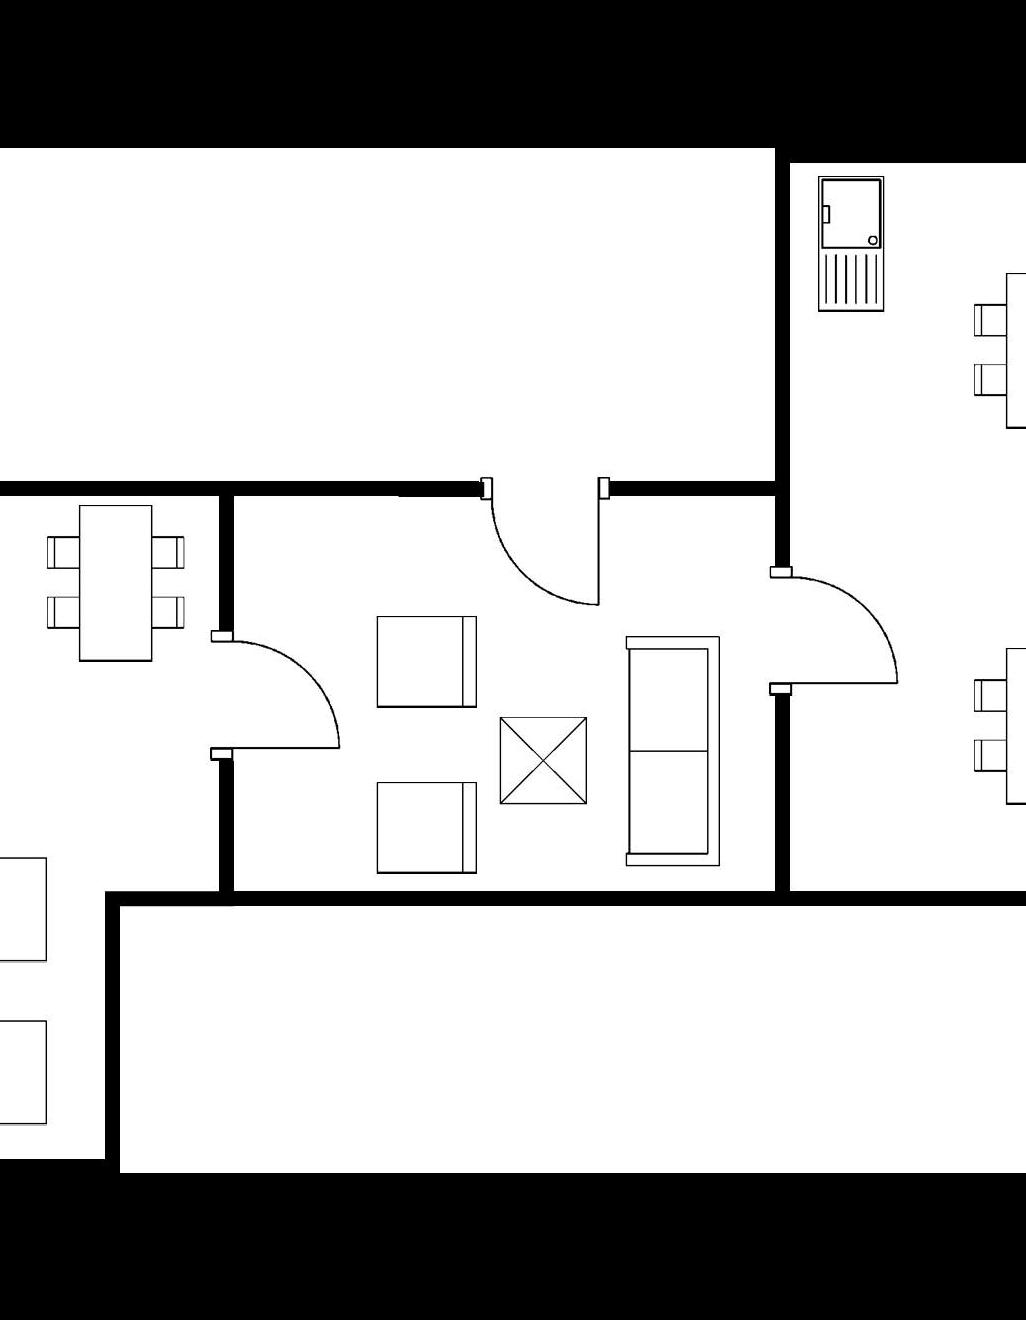bed: (0, 1009, 58, 1131), (0, 849, 54, 967)
dining_table: (37, 491, 192, 675), (963, 639, 1026, 812), (963, 267, 1026, 439)
sink: (806, 171, 894, 322)
sofa: (615, 621, 735, 881)
